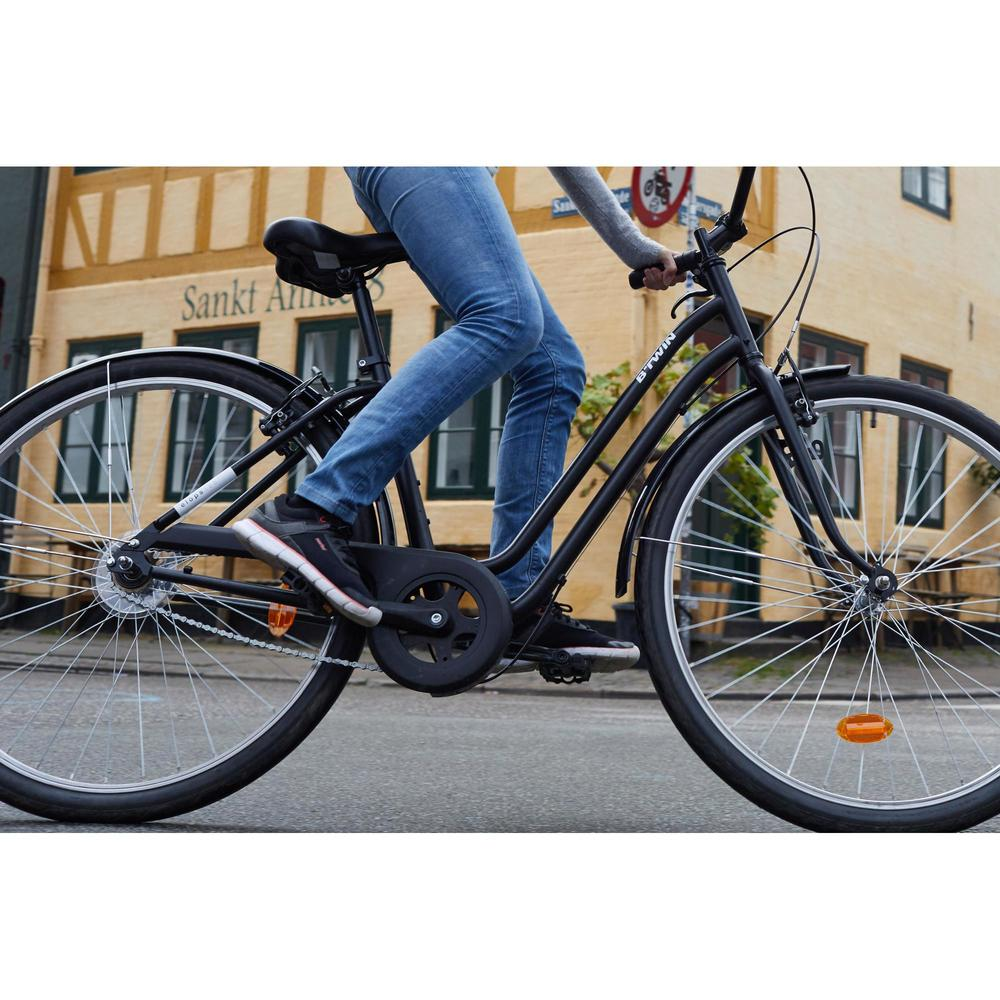UrbanBike: (0, 163, 999, 840)
